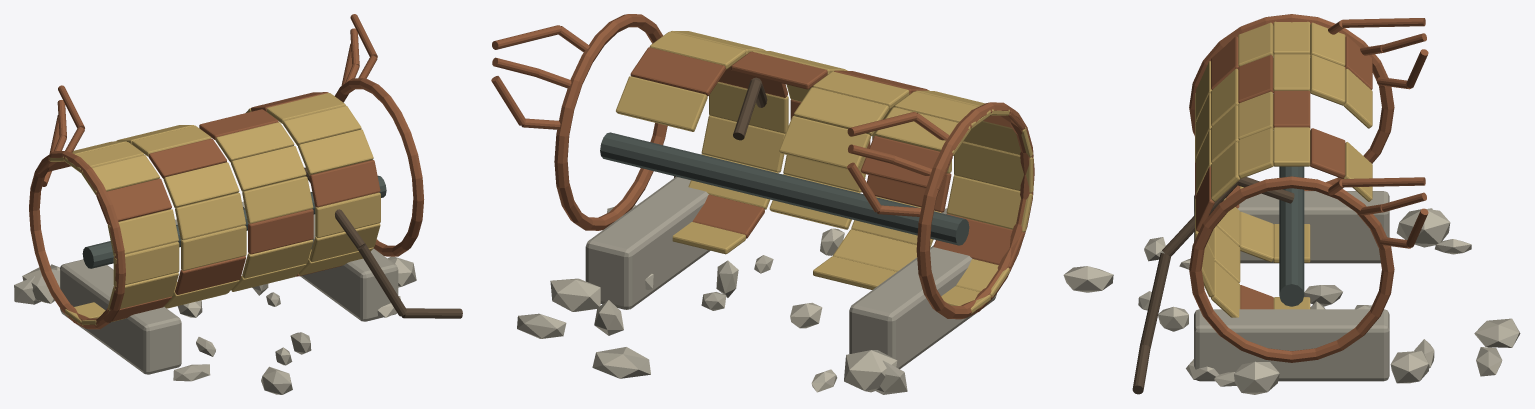
File: Tank_Ripped_Open.glb
3 renders of one model, left to right at view 1: azimuth 30°, elevation 25°; view 2: azimuth 150°, elevation 25°; view 3: azimuth 270°, elevation 25°, orthographic. The views are drawn at different scales.
Visible parts, largest first — view 1: Tank saddle, Tank end rib, Tank saddle.001, Tank end rib.001, Ruptured curved panel.020, Ruptured curved panel.021, Ruptured curved panel.019, Ruptured curved panel.015, Ruptured curved panel.017, Ruptured curved panel.016, Ruptured curved panel.023, Ruptured curved panel.024 (+30 smaller); view 2: Internal pipe, Tank saddle.001, Tank saddle, Tank end rib, Tank end rib.001, Ruptured curved panel.002, Ruptured curved panel.026, Ruptured curved panel.001, Ruptured curved panel.029, Ruptured curved panel.005, Ruptured curved panel.022, Ruptured curved panel.004 (+38 smaller); view 3: Tank saddle.001, Tank end rib.001, Tank saddle, Internal pipe, Tank end rib, Ruptured curved panel.009, Ruptured curved panel.008, Ruptured curved panel.004, Ruptured curved panel.005, Ruptured curved panel.013, Ruptured curved panel.007, Ruptured curved panel.035 (+39 smaller).
Part boxes in pixels (bbox=[...]): Tank saddle: bbox=[60, 259, 181, 374]; Tank end rib: bbox=[29, 151, 125, 329]; Tank saddle.001: bbox=[300, 214, 398, 321]; Tank end rib.001: bbox=[335, 78, 424, 256]; Ruptured curved panel.020: bbox=[242, 176, 313, 223]; Ruptured curved panel.021: bbox=[309, 160, 380, 207]; Ruptured curved panel.019: bbox=[175, 192, 245, 239]; Ruptured curved panel.015: bbox=[163, 162, 239, 207]; Ruptured curved panel.017: bbox=[298, 129, 373, 175]; Ruptured curved panel.016: bbox=[231, 146, 306, 191]; Ruptured curved panel.023: bbox=[181, 225, 246, 270]; Ruptured curved panel.024: bbox=[248, 209, 313, 254]; Internal pipe: bbox=[600, 132, 969, 245]; Tank saddle.001: bbox=[585, 176, 710, 309]; Tank saddle: bbox=[849, 245, 996, 369]; Tank end rib: bbox=[916, 102, 1034, 319]; Tank end rib.001: bbox=[554, 14, 667, 230]; Ruptured curved panel.002: bbox=[616, 76, 707, 131]; Ruptured curved panel.026: bbox=[946, 175, 1032, 232]; Ruptured curved panel.001: bbox=[779, 116, 870, 169]; Ruptured curved panel.029: bbox=[701, 115, 785, 172]; Ruptured curved panel.005: bbox=[630, 47, 725, 96]; Ruptured curved panel.022: bbox=[954, 141, 1033, 193]; Ruptured curved panel.004: bbox=[794, 87, 889, 136]; Tank saddle.001: bbox=[1194, 309, 1389, 381]; Tank end rib.001: bbox=[1189, 176, 1394, 362]; Tank saddle: bbox=[1194, 191, 1389, 263]; Internal pipe: bbox=[1279, 166, 1304, 306]; Tank end rib: bbox=[1189, 14, 1394, 190]; Ruptured curved panel.009: bbox=[1273, 127, 1310, 166]; Ruptured curved panel.008: bbox=[1273, 90, 1310, 128]; Ruptured curved panel.004: bbox=[1310, 55, 1345, 105]; Ruptured curved panel.005: bbox=[1310, 128, 1345, 178]; Ruptured curved panel.013: bbox=[1238, 128, 1273, 178]; Ruptured curved panel.007: bbox=[1273, 54, 1310, 91]; Ruptured curved panel.035: bbox=[1239, 211, 1273, 262].
Size of the model in its own units: 3.17 by 1.94 by 3.27.
